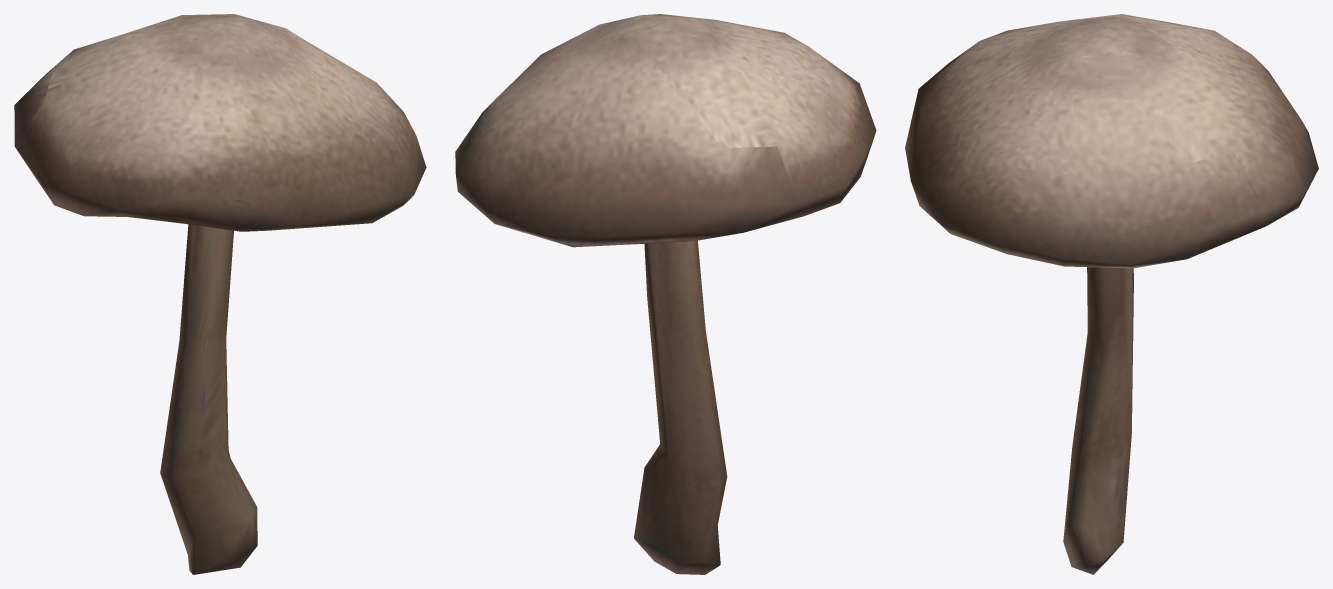
Rendered from fungus-tan-d.gltf.
3 views of the same model, side by side, from view 1: azimuth 30°, elevation 25°; view 2: azimuth 150°, elevation 25°; view 3: azimuth 270°, elevation 25° (orthographic). The views are drawn at different scales.
Parts seen in each view (by area): view 1: fungus-tan-d; view 2: fungus-tan-d; view 3: fungus-tan-d.
Part boxes in pixels (x1,y1,x2,y2): fungus-tan-d: (14, 14, 426, 574); fungus-tan-d: (455, 14, 876, 574); fungus-tan-d: (905, 14, 1318, 574).
Bounding box in the file's own units: 0.4974 × 0.7287 × 0.5098.
Materials: 1 (1 with a texture image).
